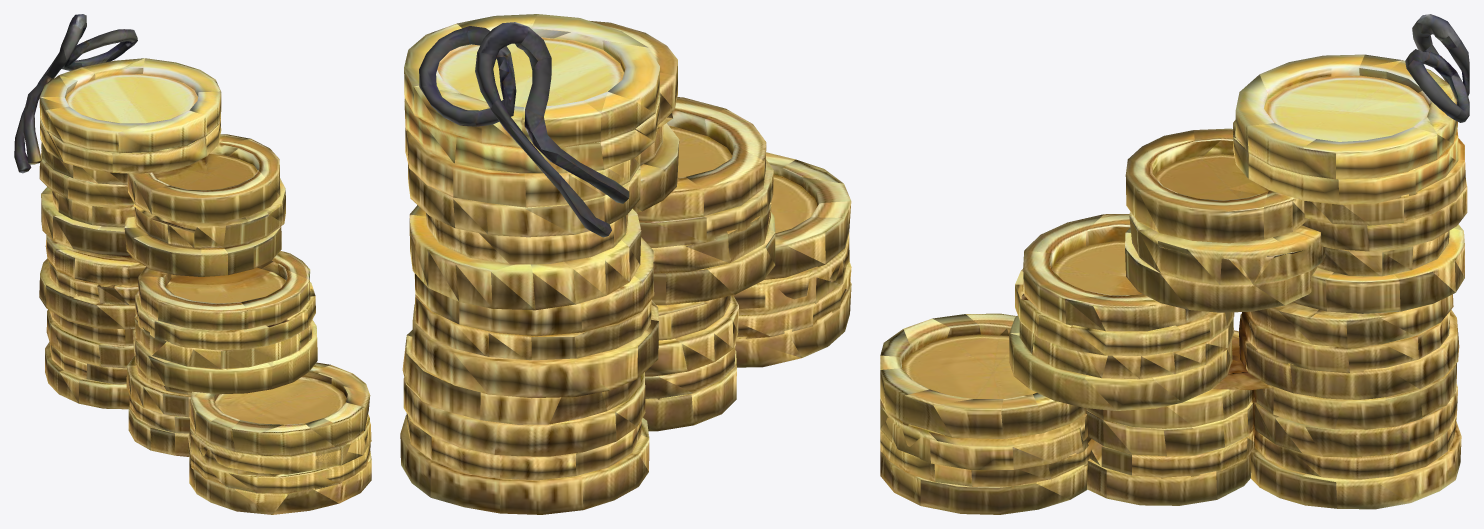
The model's file is interest_penny.glb.
3 views of the same model, side by side, from view 1: azimuth 30°, elevation 25°; view 2: azimuth 150°, elevation 25°; view 3: azimuth 270°, elevation 25° (orthographic). The views are drawn at different scales.
Size of the model in its own units: 0.4619 by 0.8145 by 1.
1 material, 1 textured.
